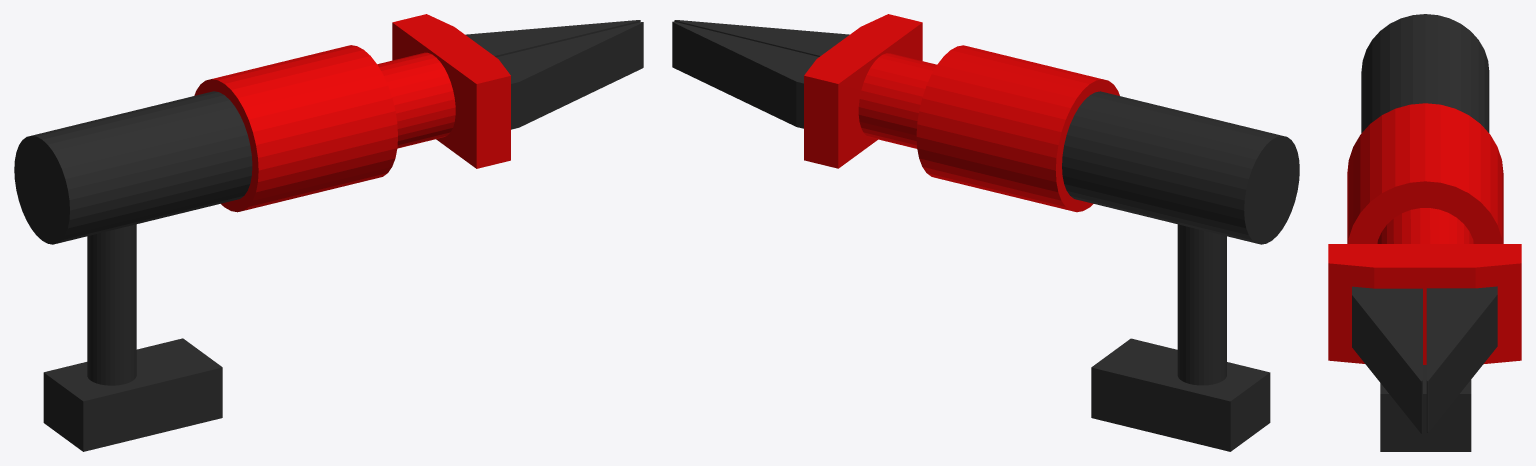
File: R3A_spreader_OCM931.dae
3 renders of one model, left to right at view 1: azimuth 30°, elevation 25°; view 2: azimuth 150°, elevation 25°; view 3: azimuth 270°, elevation 25°, orthographic. The views are drawn at different scales.
Parts seen in each view (by area): view 1: 立方体, 立方体_001, 平面; view 2: 立方体, 立方体_001, 平面; view 3: 立方体, 立方体_001, 平面.
Boxes of the visible parts, x1,y1,x2,y2 form: 立方体: (14, 45, 397, 451); 立方体_001: (377, 14, 510, 168); 平面: (465, 20, 643, 129); 立方体: (916, 45, 1299, 451); 立方体_001: (804, 14, 936, 168); 平面: (672, 20, 849, 128); 立方体: (1347, 14, 1503, 451); 立方体_001: (1328, 208, 1521, 364); 平面: (1352, 286, 1497, 433).
Bounding box in the file's own units: 0.5592 × 0.1362 × 0.28.
